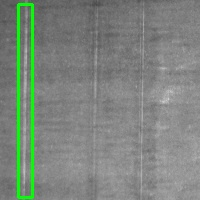scratches: (18, 4, 32, 197)
